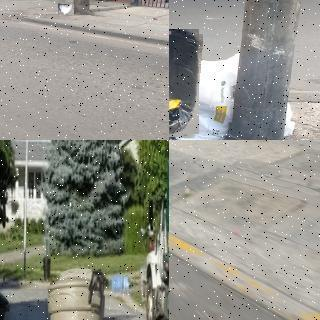Garbage: (174, 51, 249, 140), (169, 27, 201, 136), (58, 4, 74, 15)
